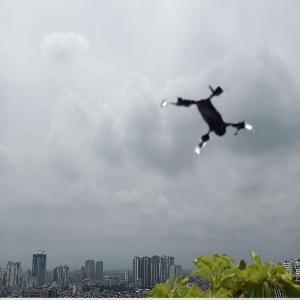drone: (151, 69, 263, 181)
